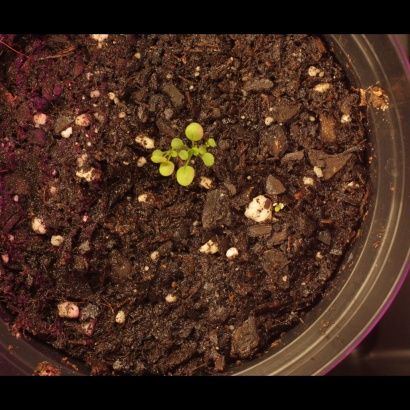leaf: (184, 119, 207, 142), (201, 152, 224, 175), (176, 165, 199, 188), (154, 158, 177, 181), (146, 143, 169, 166), (164, 127, 187, 150), (204, 129, 227, 152), (176, 142, 199, 165)
